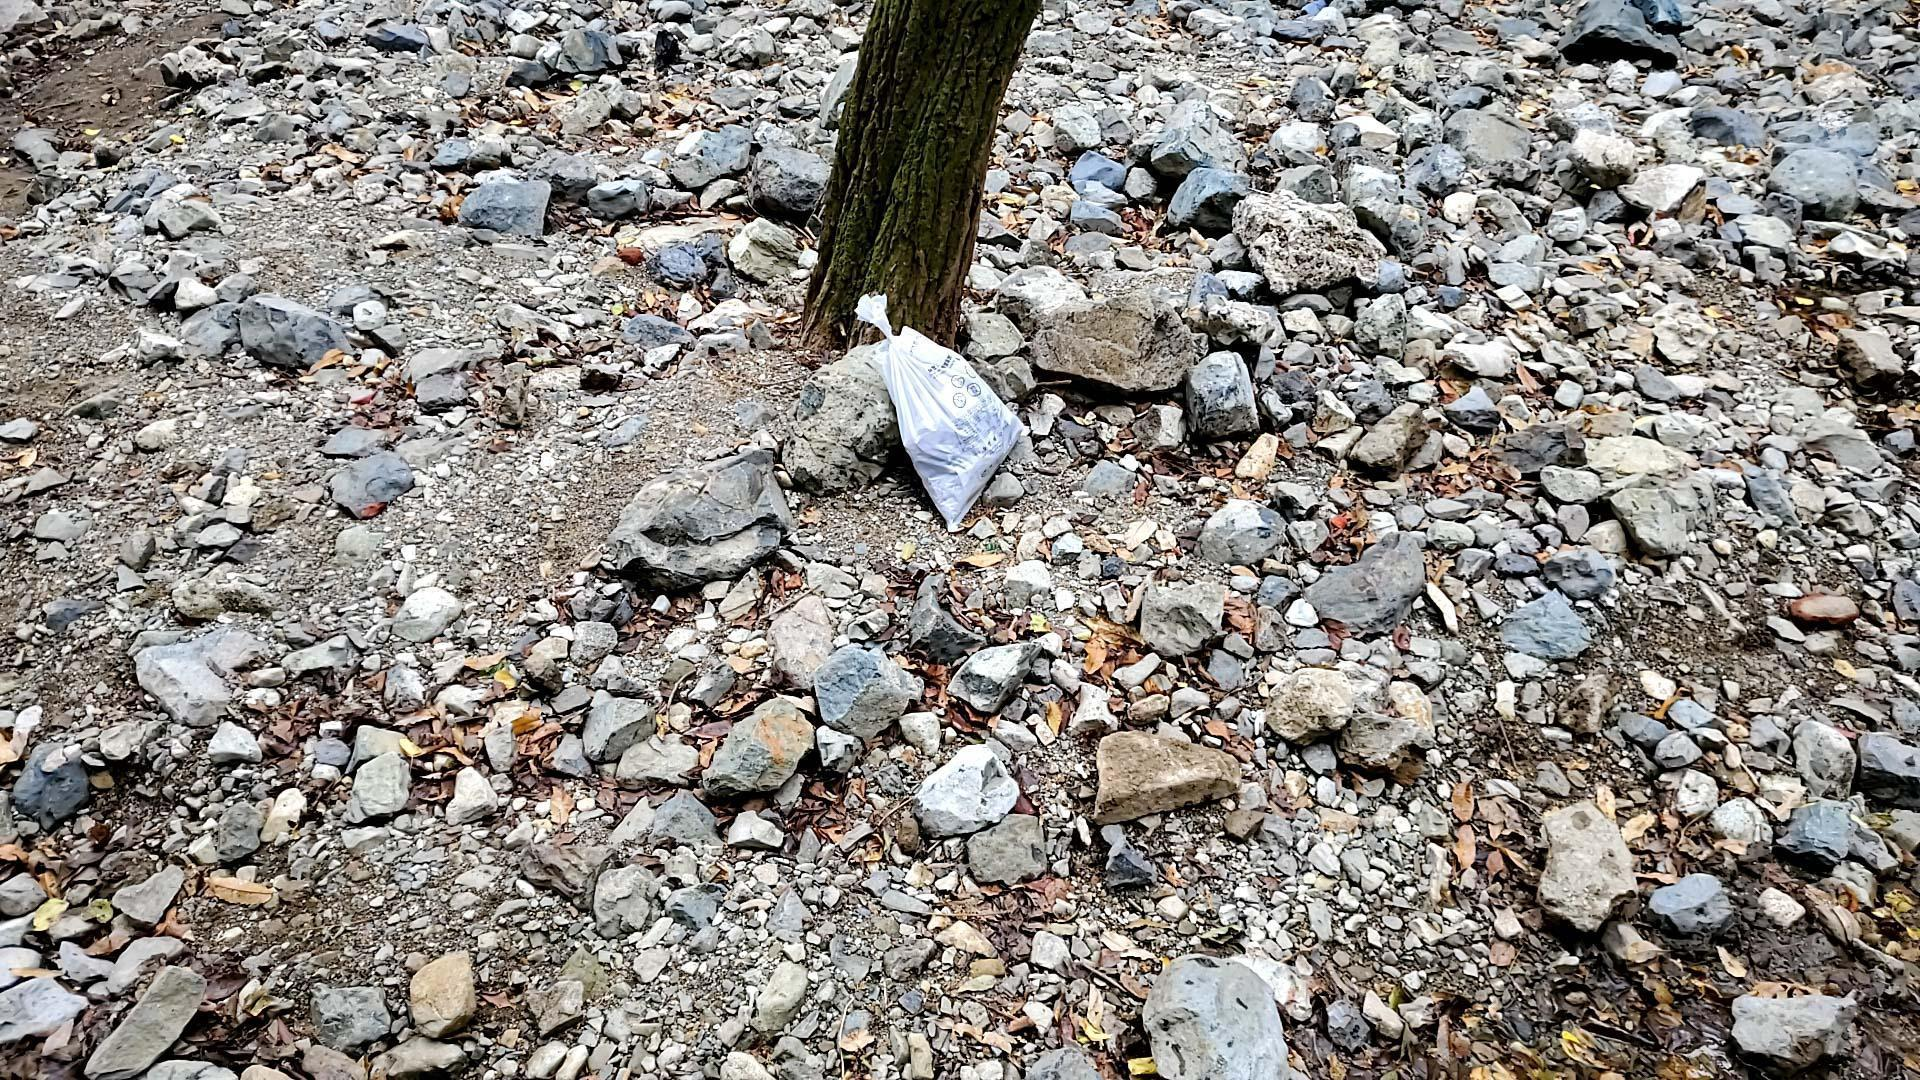white_bag: (851, 281, 1048, 531)
